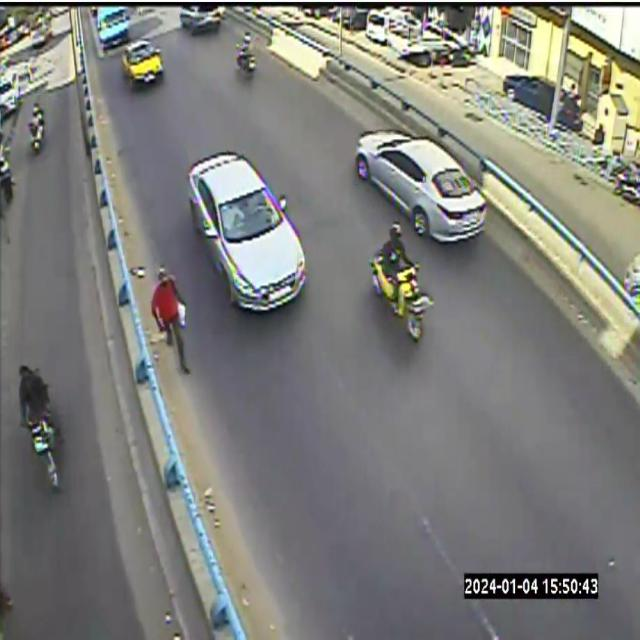car: (187, 150, 305, 311), (355, 129, 486, 241), (123, 40, 163, 84), (97, 5, 128, 50)
